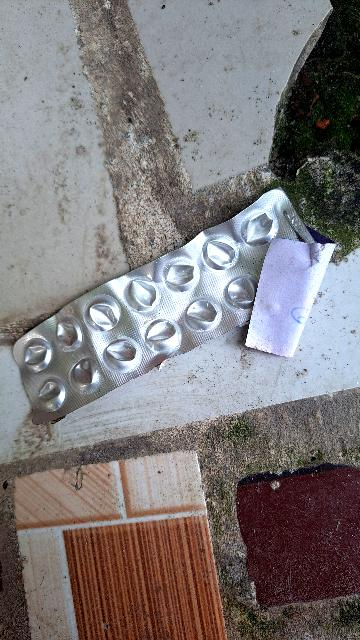medicine: (0, 180, 335, 435)
